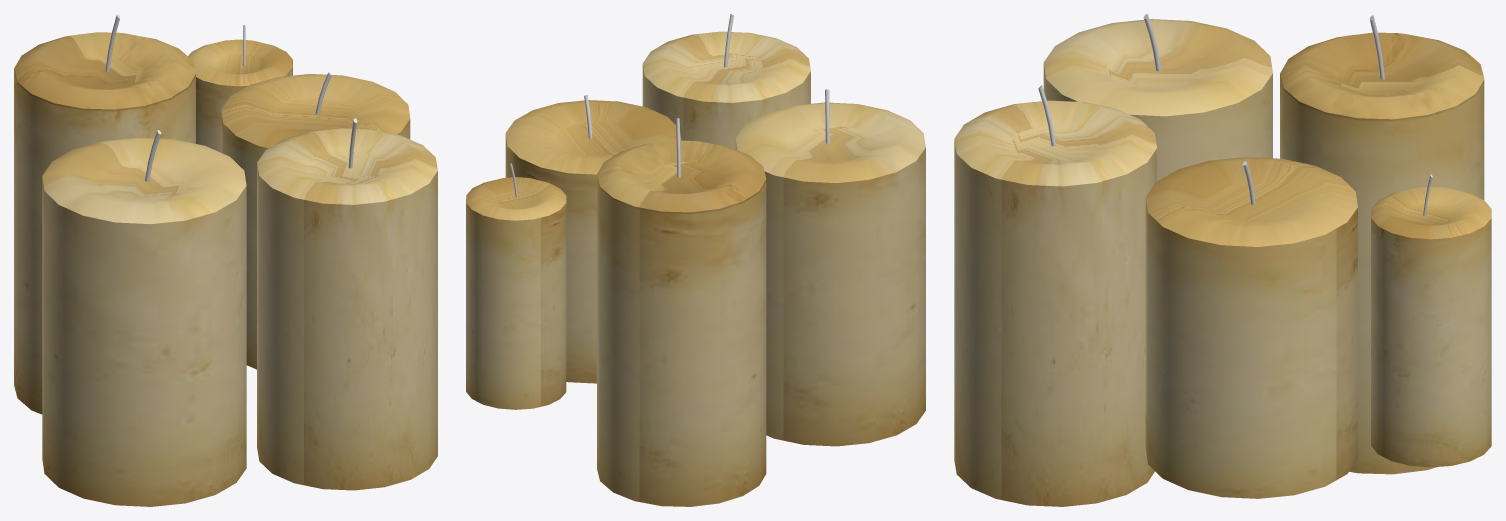
File: candleset.FBX
The picture shows the model from 3 angles, left to right: view 1: azimuth 30°, elevation 25°; view 2: azimuth 150°, elevation 25°; view 3: azimuth 270°, elevation 25°; orthographic projection. The views are drawn at different scales.
Visible parts, largest first — view 1: Cylinder009, Cylinder002, Cylinder011, Cylinder015, Cylinder013; view 2: Cylinder011, Cylinder009, Cylinder013, Cylinder015, Cylinder002; view 3: Cylinder002, Cylinder015, Cylinder011, Cylinder013, Cylinder009.
Part boxes in pixels (x1,y1,x2,y2): Cylinder009: [42, 137, 246, 506]; Cylinder002: [257, 128, 437, 490]; Cylinder011: [14, 32, 195, 414]; Cylinder015: [221, 74, 410, 369]; Cylinder013: [188, 39, 292, 152]; Cylinder011: [597, 140, 766, 506]; Cylinder009: [735, 102, 925, 446]; Cylinder013: [466, 177, 566, 409]; Cylinder015: [505, 100, 681, 383]; Cylinder002: [642, 31, 810, 149]; Cylinder002: [954, 100, 1156, 506]; Cylinder015: [1145, 157, 1357, 498]; Cylinder011: [1280, 32, 1484, 474]; Cylinder013: [1371, 186, 1491, 467]; Cylinder009: [1043, 19, 1272, 181].
Bounding box in the file's own units: 8.33 × 7.76 × 9.
